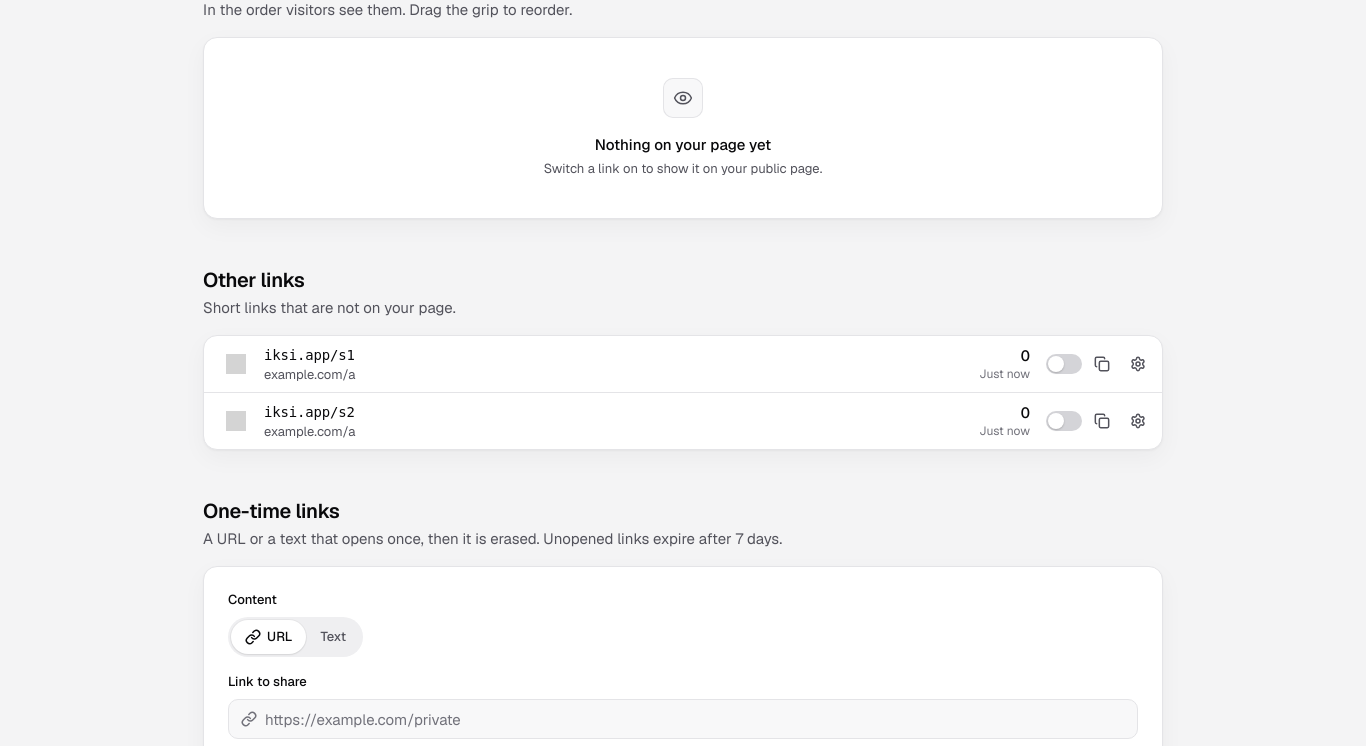
Test: links page groups and order › deletes a link from the sheet after confirming
(page scrolled)
What coordinates should you click on to do the following:
click the button named "Settings for iksi.app/s1"
I would click on:
 (1138, 364)
Its box is [1122,348,1154,380].
(page scrolled)
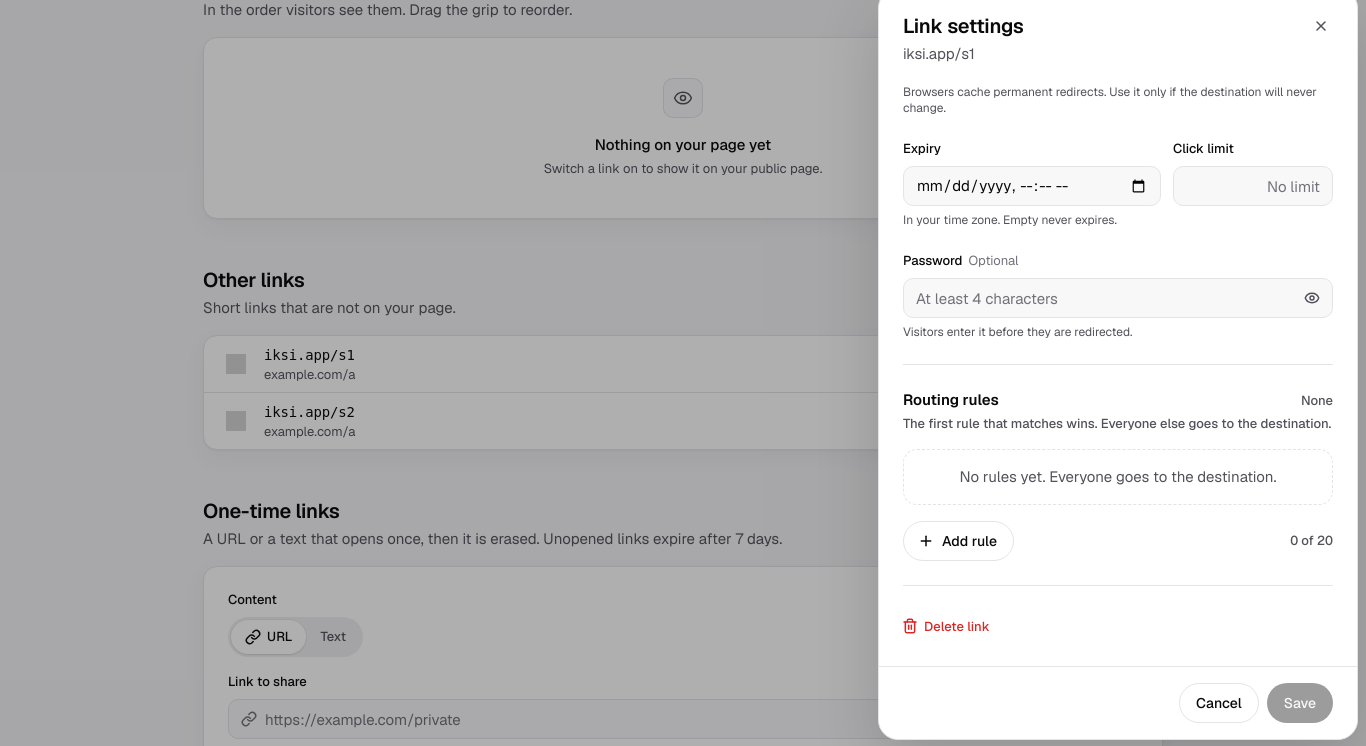
What coordinates should you click on to do the following:
click the button "Delete link"
I would click on:
 (947, 626)
Its box is [891,610,1003,642].
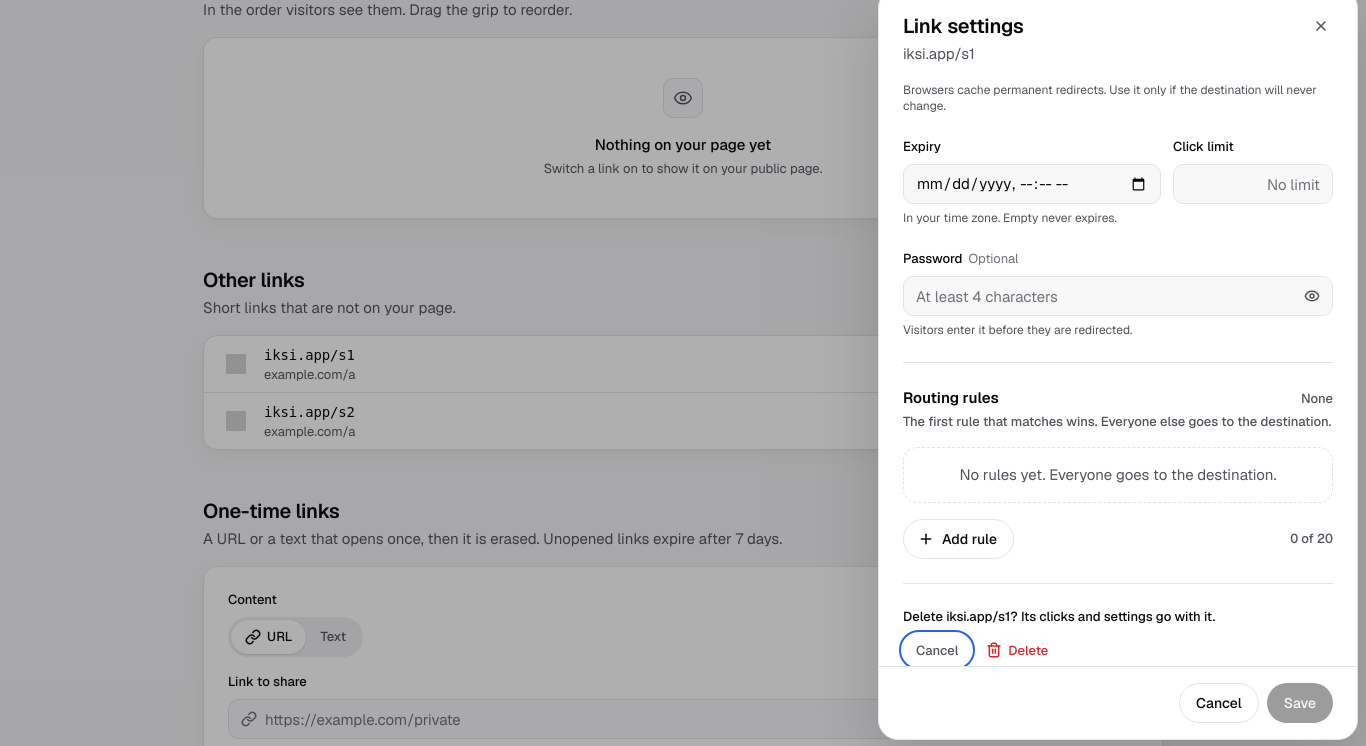
What coordinates should you click on to do the following:
click the button "Delete"
I would click on:
 (1018, 650)
Its box is [975,634,1061,666].
(page scrolled)
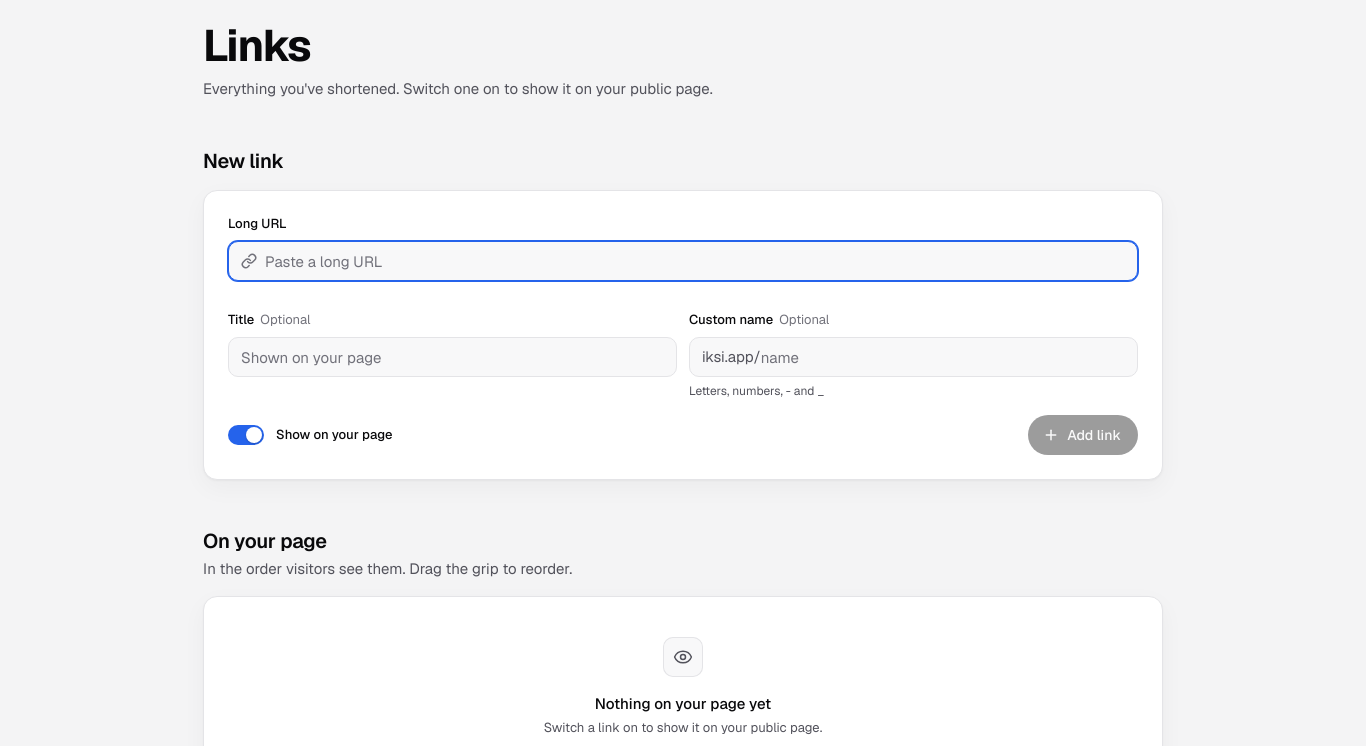
Check: the text "iksi.app/s1" is gone
Check: the heading "Link settings" is gone
